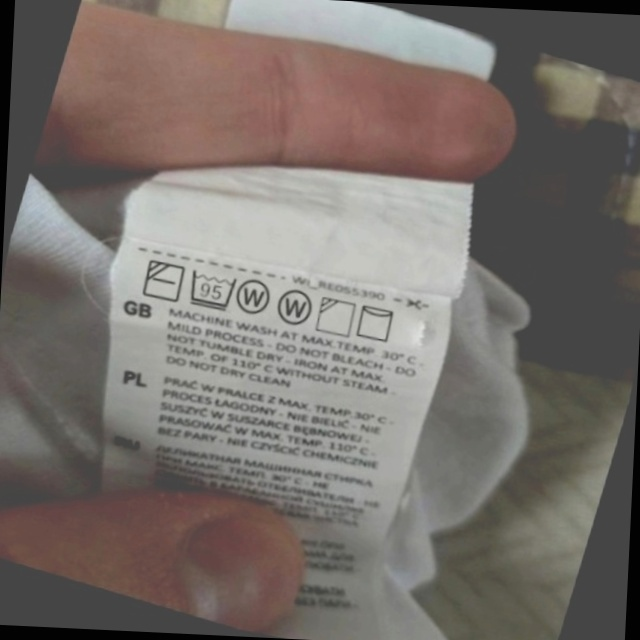95C: (180, 261, 244, 318)
dry_flat_in_shade: (135, 251, 191, 309)
line_dry: (349, 296, 403, 350)
shade_dry: (309, 290, 363, 344)
wet_clean: (269, 281, 321, 335), (230, 269, 281, 323)
